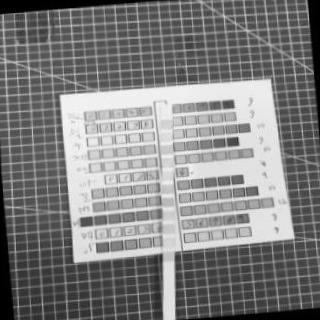mark: (160, 144, 173, 154), (162, 197, 174, 207), (162, 253, 175, 262), (162, 210, 175, 219), (163, 224, 174, 234), (164, 238, 176, 247), (160, 132, 172, 141), (160, 184, 173, 192), (160, 106, 171, 115), (161, 158, 173, 166), (161, 120, 172, 128), (163, 172, 173, 180)
